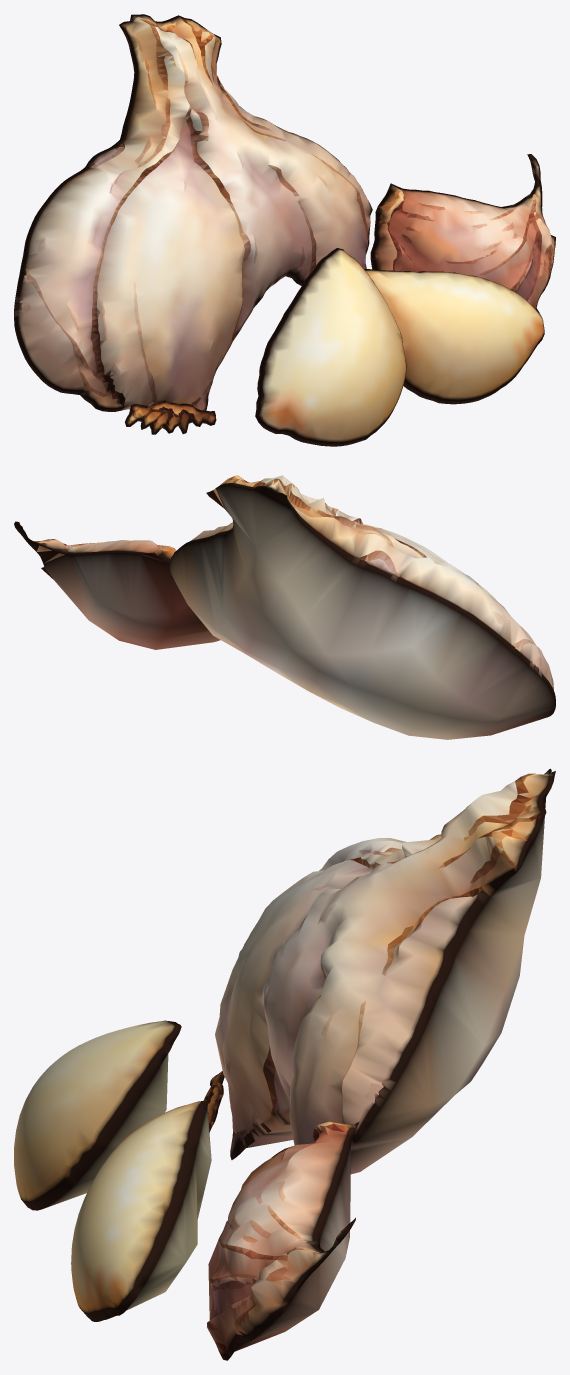
File: SM_garlic.fbx
The picture shows the model from 3 angles, top to bottom: view 1: azimuth 30°, elevation 25°; view 2: azimuth 150°, elevation 25°; view 3: azimuth 270°, elevation 25°; orthographic projection. The views are drawn at different scales.
Parts seen in each view (by area): view 1: SM_garlic; view 2: SM_garlic; view 3: SM_garlic.
Boxes of the visible parts, box(x1,y1,x2,y2) form: SM_garlic: box(14, 14, 555, 446); SM_garlic: box(14, 475, 555, 739); SM_garlic: box(14, 768, 555, 1360).
Size of the model in its own units: 0.1157 by 0.0636 by 0.0745.
